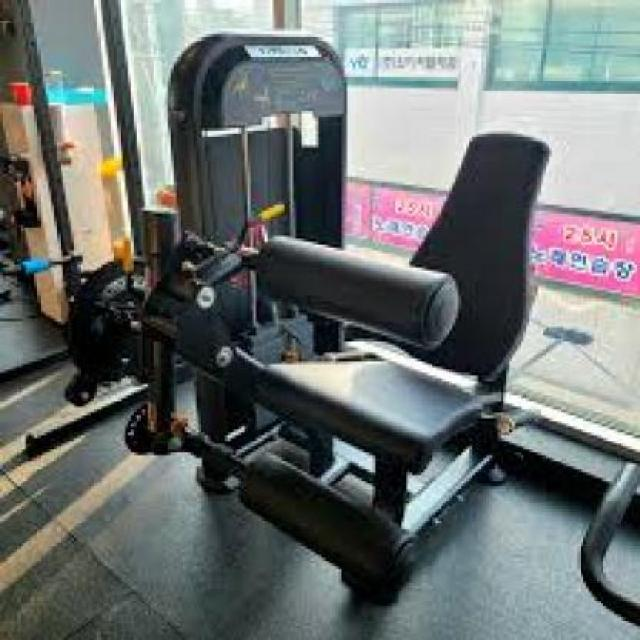leg extension: (103, 19, 545, 622)
